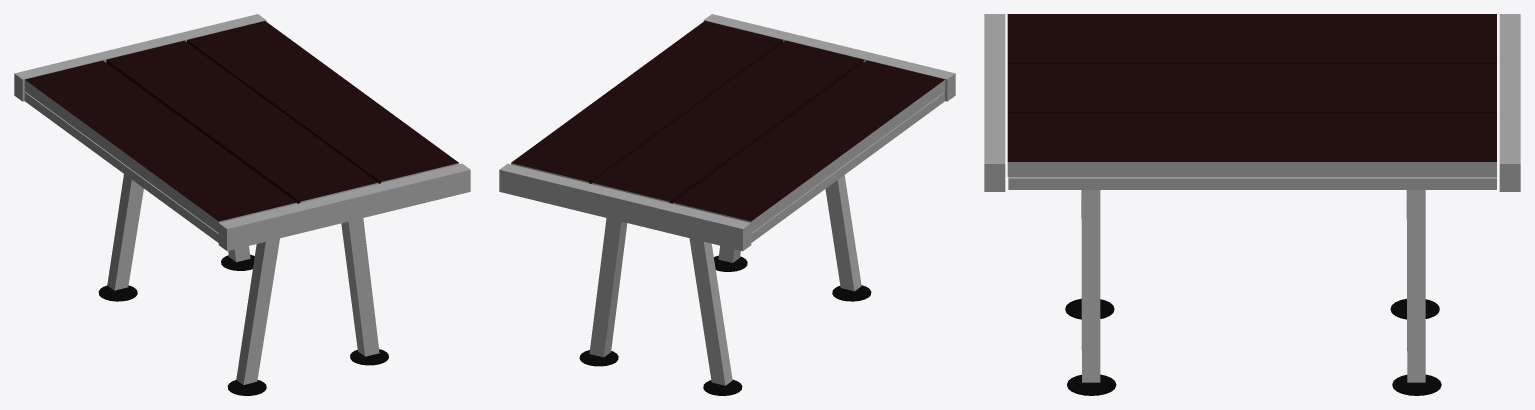
The model's file is table.fbx.
3 views of the same model, side by side, from view 1: azimuth 30°, elevation 25°; view 2: azimuth 150°, elevation 25°; view 3: azimuth 270°, elevation 25° (orthographic). The views are drawn at different scales.
Parts seen in each view (by area): view 1: table; view 2: table; view 3: table.
Part boxes in pixels (x1,y1,x2,y2): table: (14,14,470,395); table: (499,14,955,395); table: (984,14,1520,395).
Size of the model in its own units: 173 by 139 by 261.
